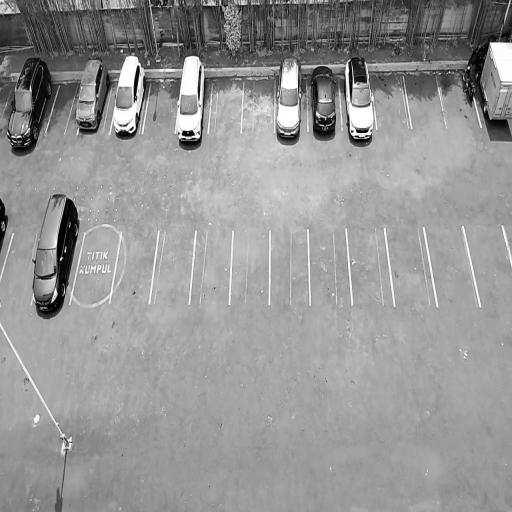Car: (29, 193, 83, 322), (5, 54, 58, 156), (470, 30, 512, 133), (111, 50, 150, 138), (173, 53, 208, 147), (342, 55, 378, 146), (75, 54, 113, 134), (275, 55, 303, 144), (310, 63, 339, 138), (0, 194, 10, 249)
Space Available: (425, 226, 481, 307), (387, 227, 437, 306), (465, 224, 512, 308), (69, 230, 120, 305), (110, 230, 159, 304), (347, 228, 393, 306), (150, 230, 195, 304), (189, 230, 233, 304), (310, 229, 351, 305), (231, 229, 270, 305), (270, 231, 309, 306), (0, 231, 39, 305), (404, 72, 446, 128), (143, 77, 181, 136), (371, 71, 411, 127), (209, 78, 244, 134), (241, 76, 274, 134), (45, 81, 81, 133)
